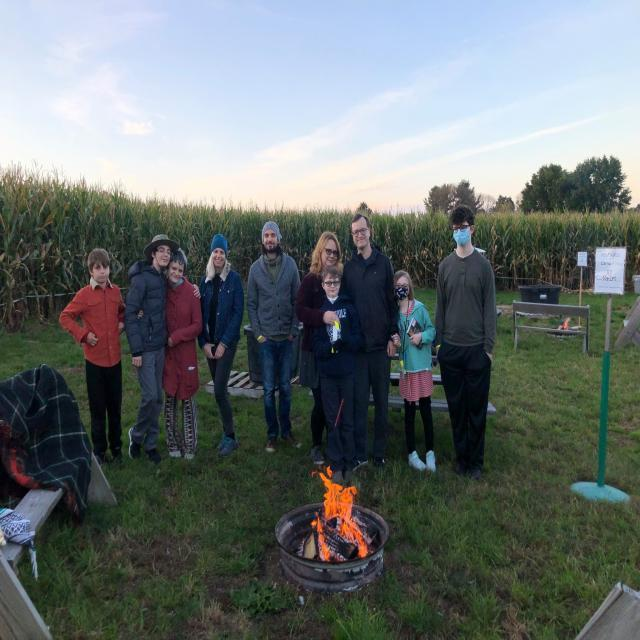Fire: (303, 462, 381, 566)
